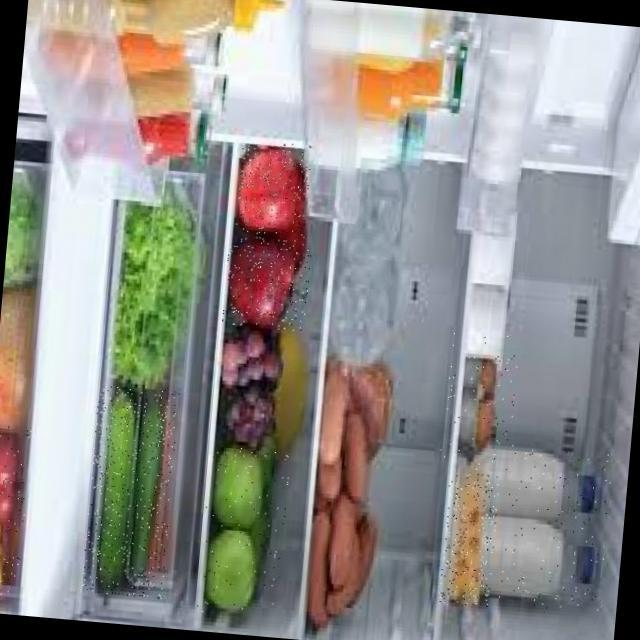Huevos: (436, 329, 518, 472)
Manzana: (193, 442, 292, 620), (233, 140, 311, 250), (220, 243, 310, 332)
Queso: (438, 470, 499, 608)
